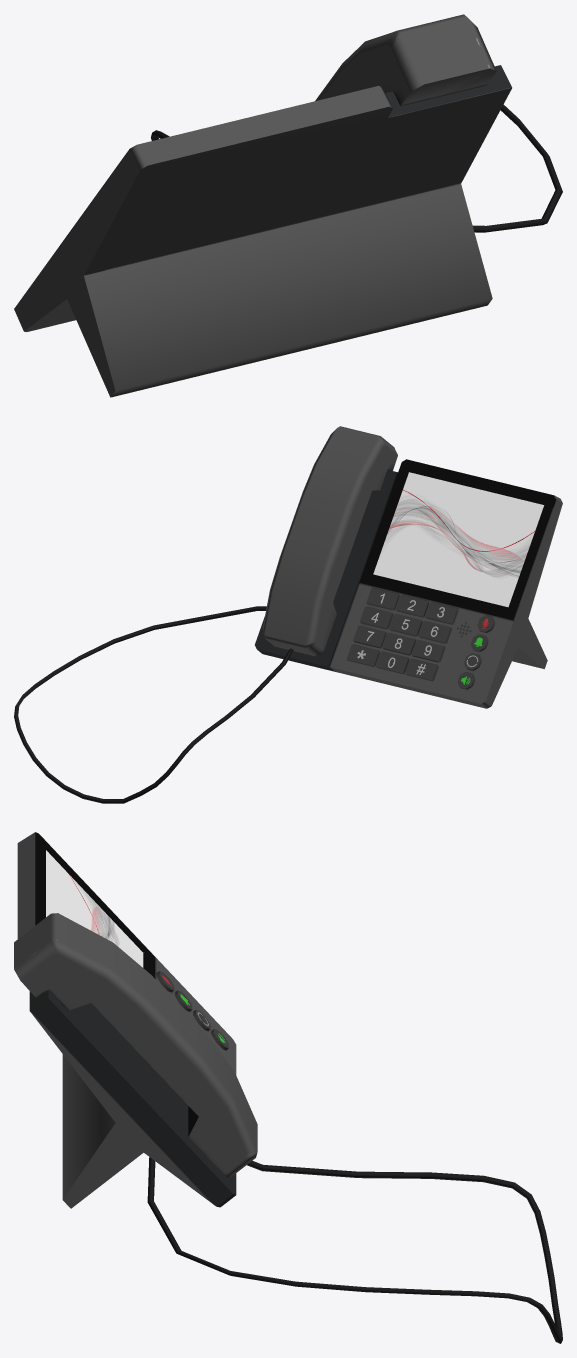
File: phone.fbx
3 renders of one model, top to bottom at view 1: azimuth 30°, elevation 25°; view 2: azimuth 150°, elevation 25°; view 3: azimuth 270°, elevation 25°, orthographic. The views are drawn at different scales.
Visible parts, largest first — view 1: phone; view 2: phone; view 3: phone.
Boxes of the visible parts, x1,y1,x2,y2 form: phone: [14, 14, 562, 397]; phone: [14, 426, 562, 803]; phone: [14, 832, 562, 1343].
Size of the model in its own units: 38.74 by 25.94 by 36.86.
